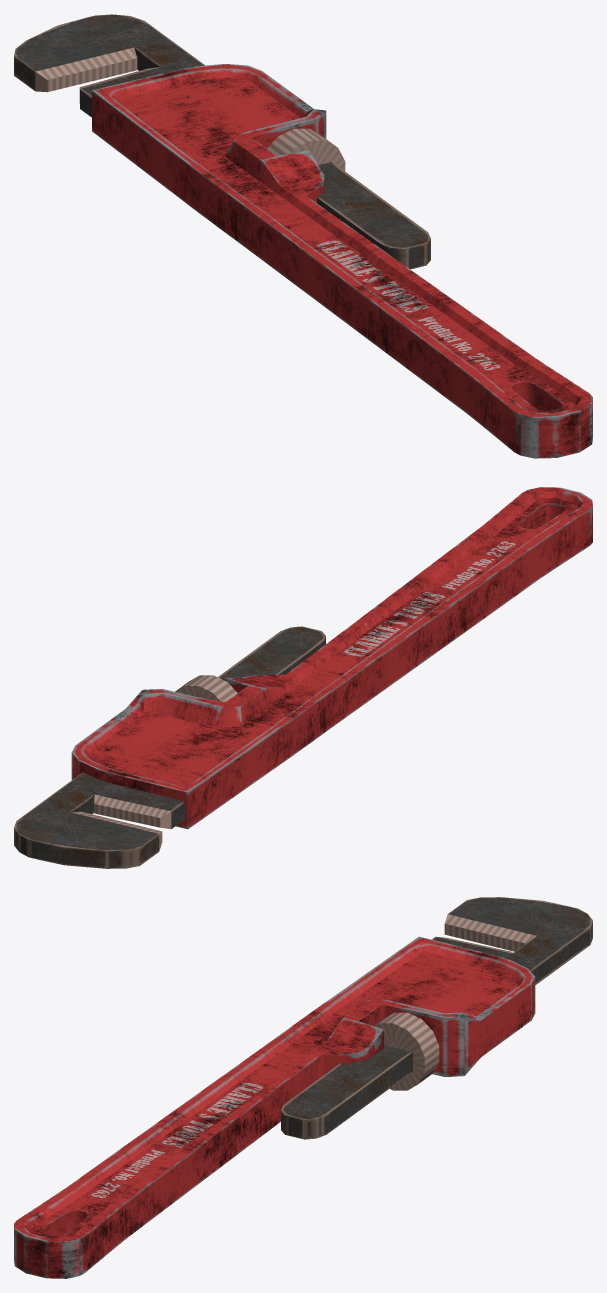
File: pipe_wrench.glb
3 views of the same model, one above another, from view 1: azimuth 30°, elevation 25°; view 2: azimuth 150°, elevation 25°; view 3: azimuth 330°, elevation 25° (orthographic). The views are drawn at different scales.
Parts seen in each view (by area): view 1: pCube5; view 2: pCube5; view 3: pCube5.
Boxes of the visible parts, x1,y1,x2,y2 form: pCube5: (14, 14, 592, 458); pCube5: (14, 487, 592, 868); pCube5: (14, 897, 592, 1278).
Size of the model in its own units: 0.1108 by 0.0494 by 0.6446.
Materials: 1 (1 with a texture image).
